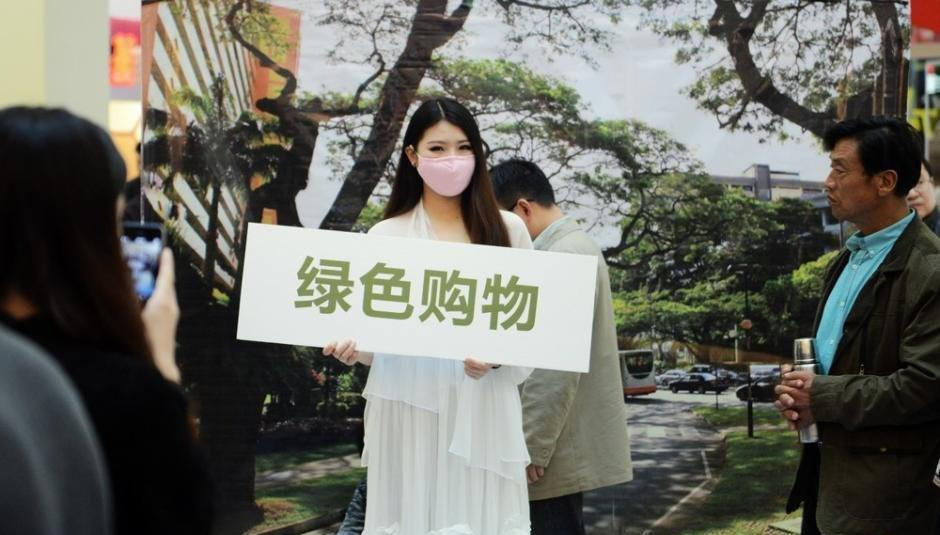NONE: (824, 160, 884, 220), (897, 164, 938, 217)
OK: (413, 136, 476, 199)
